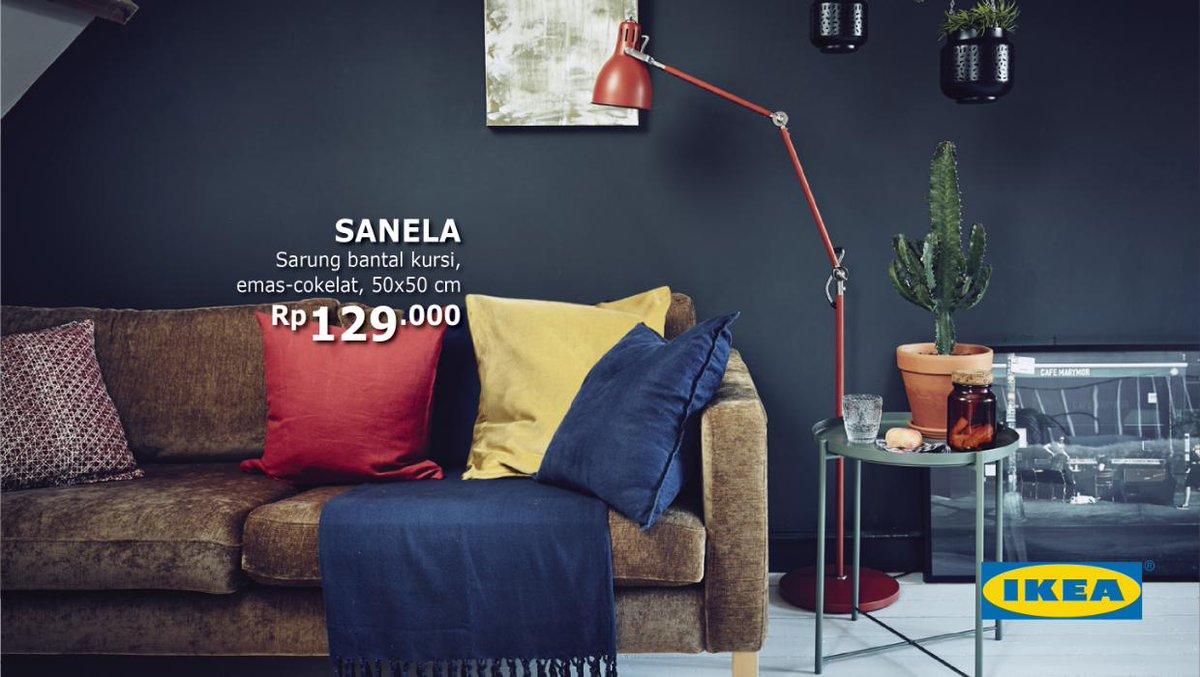bantal: (548, 318, 735, 526), (463, 291, 674, 473), (251, 306, 443, 478), (1, 315, 146, 481)
gelas: (837, 392, 884, 446)
lampu: (586, 15, 674, 120)
lukisan: (478, 1, 650, 133)
sova: (1, 295, 773, 673)
tanaman: (899, 137, 998, 433), (936, 3, 1022, 105)
